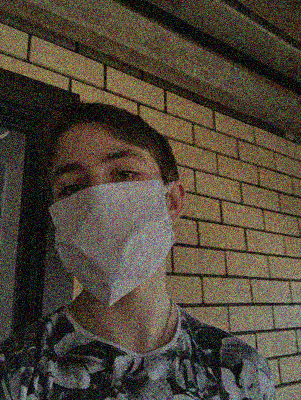with_mask: (48, 144, 177, 307)
